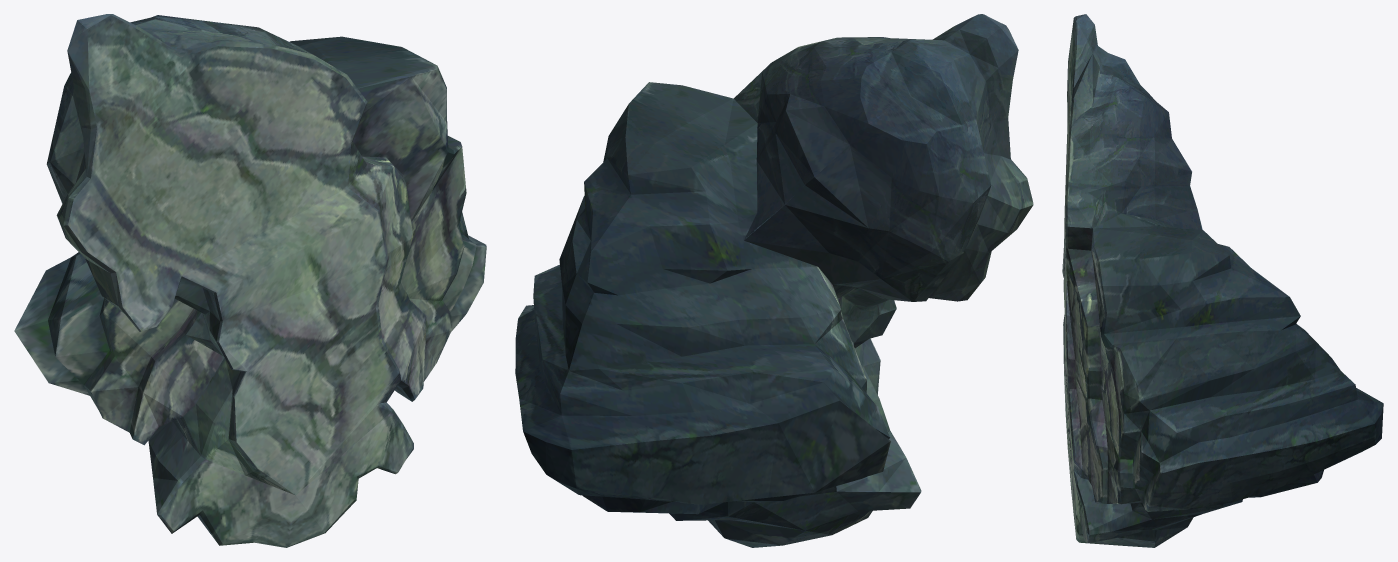
File: huodong_fuben_417_shanshi02.obj
3 views of the same model, side by side, from view 1: azimuth 30°, elevation 25°; view 2: azimuth 150°, elevation 25°; view 3: azimuth 270°, elevation 25° (orthographic). The views are drawn at different scales.
Parts seen in each view (by area): view 1: huodong_fuben_417_shanshi02; view 2: huodong_fuben_417_shanshi02; view 3: huodong_fuben_417_shanshi02.
Boxes of the visible parts, bbox=[...] form: huodong_fuben_417_shanshi02: bbox=[14, 14, 486, 547]; huodong_fuben_417_shanshi02: bbox=[515, 14, 1033, 547]; huodong_fuben_417_shanshi02: bbox=[1062, 14, 1383, 547].
Size of the model in its own units: 274 by 318 by 205.
Materials: 1 (1 with a texture image).
